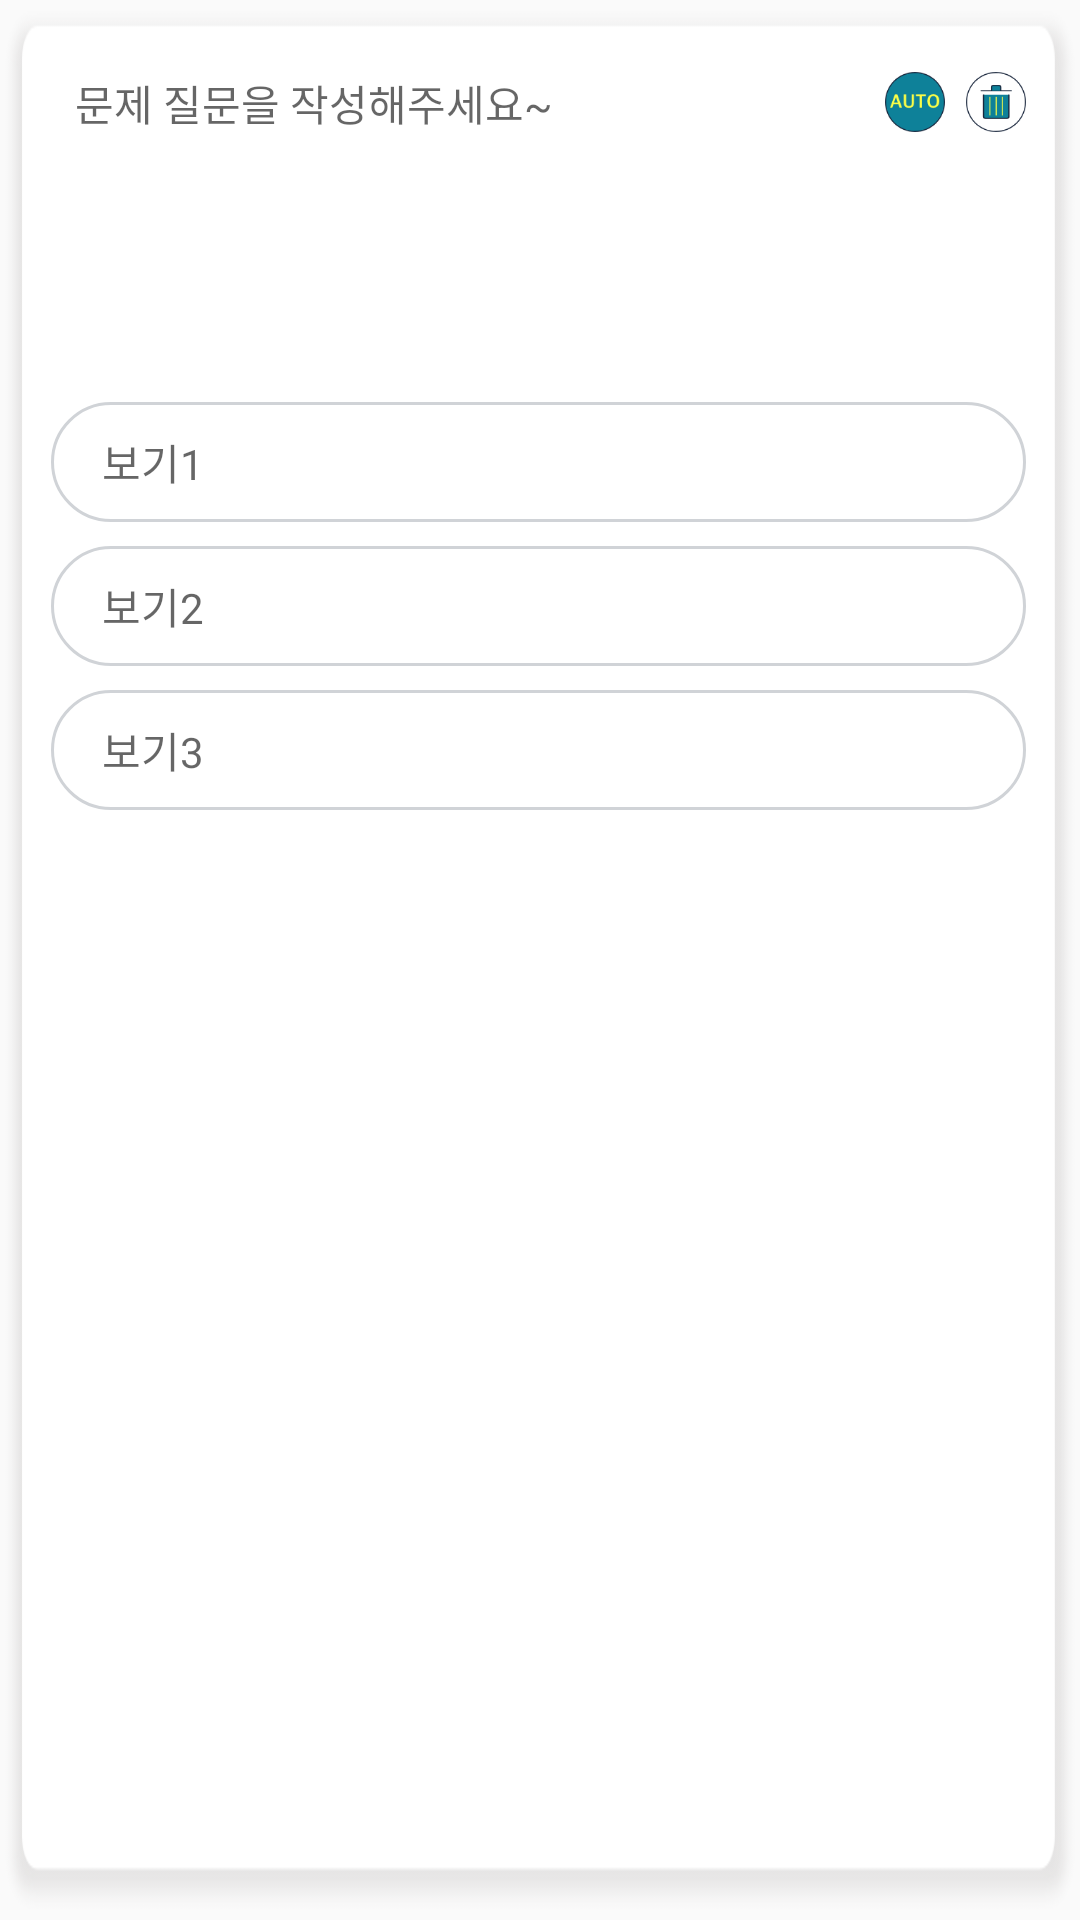

Point at icon controls on the screen. Image size 1080x1920, points as [x,y].
delete: [996,102]
